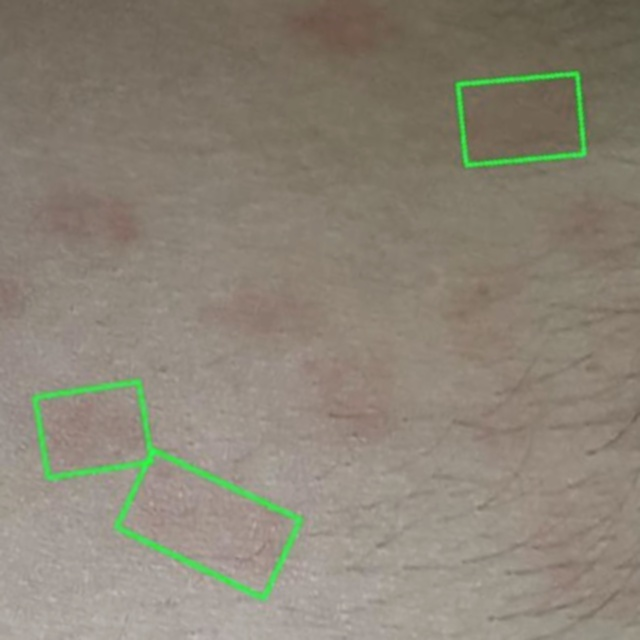Tinea Corporis: (116, 450, 300, 598), (458, 74, 585, 166), (35, 382, 152, 478)
